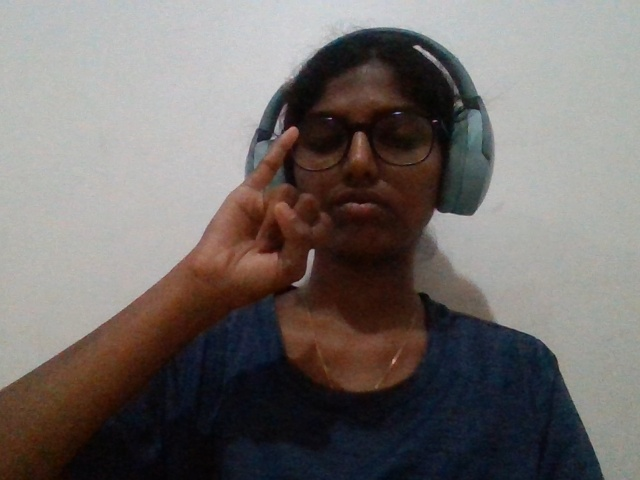I: (157, 122, 359, 374)
